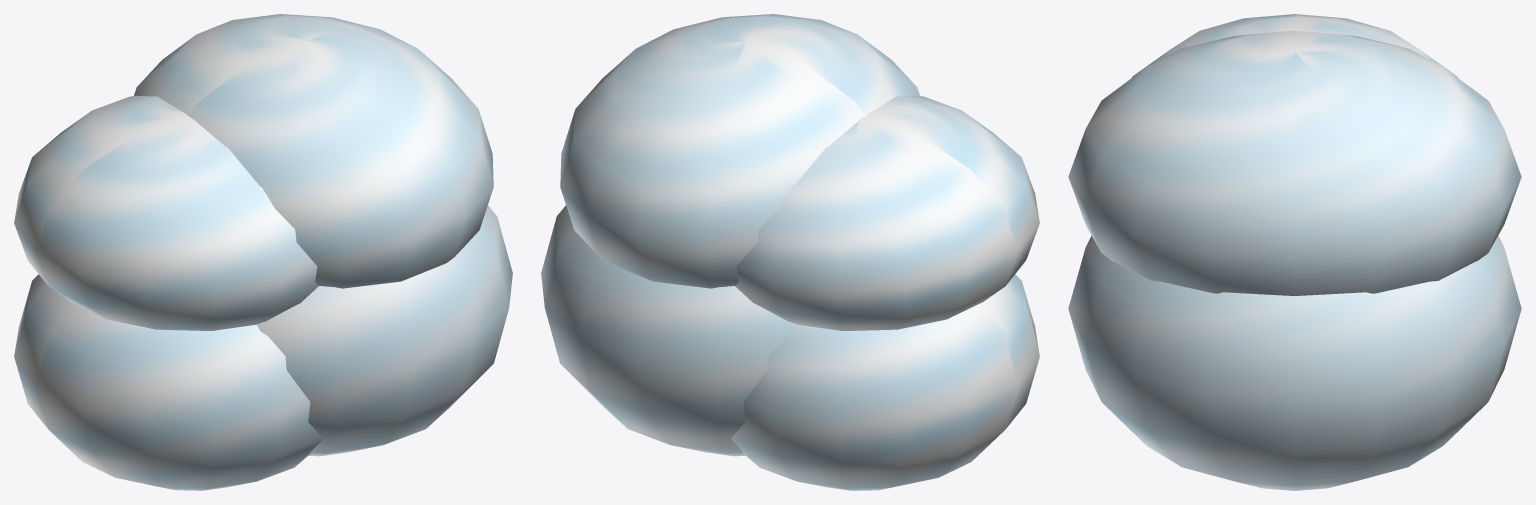
Rendered from cloud.obj.
3 renders of one model, left to right at view 1: azimuth 30°, elevation 25°; view 2: azimuth 150°, elevation 25°; view 3: azimuth 270°, elevation 25°, orthographic. The views are drawn at different scales.
Parts seen in each view (by area): view 1: 球.002; view 2: 球.002; view 3: 球.002.
Boxes of the visible parts, bbox=[...] form: 球.002: bbox=[14, 14, 512, 490]; 球.002: bbox=[541, 14, 1039, 490]; 球.002: bbox=[1068, 14, 1521, 490].
Bounding box in the file's own units: 2.42 × 2.08 × 2.
